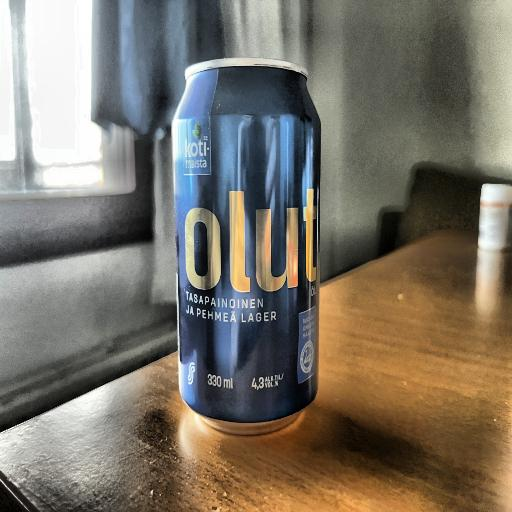sandels: (166, 55, 338, 436)
